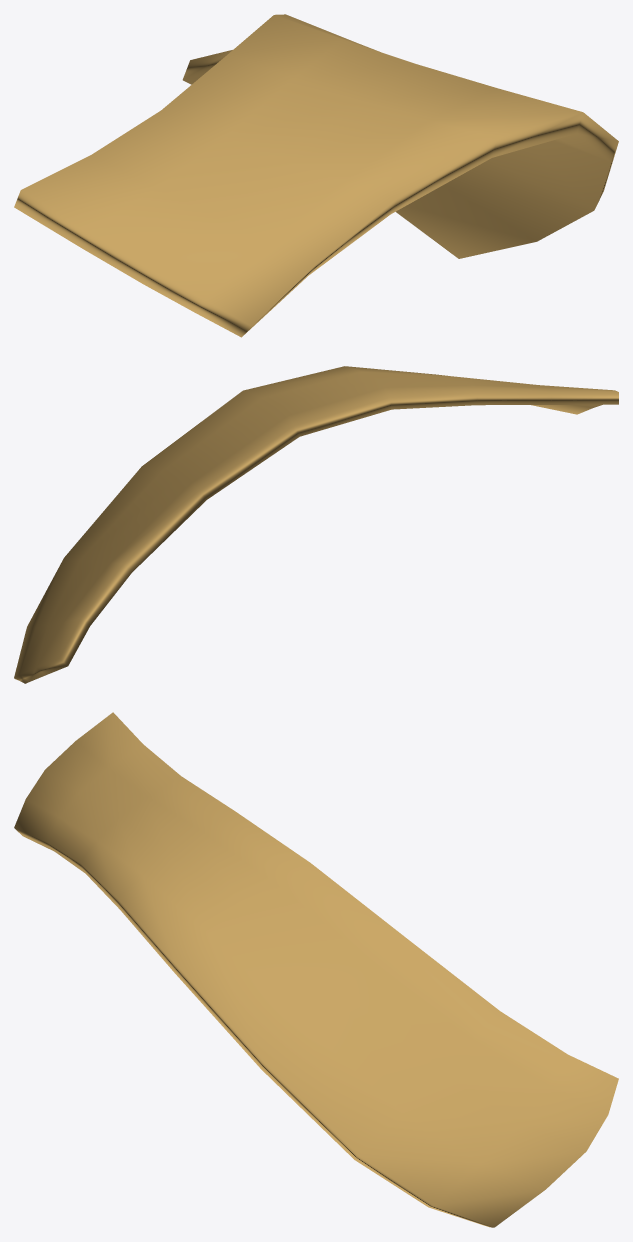
The picture shows the model from 3 angles, top to bottom: view 1: azimuth 30°, elevation 25°; view 2: azimuth 150°, elevation 25°; view 3: azimuth 270°, elevation 25°; orthographic projection. The views are drawn at different scales.
Visible parts, largest first — view 1: 右侧腓骨头后韧带; view 2: 右侧腓骨头后韧带; view 3: 右侧腓骨头后韧带.
Part boxes in pixels (left/top/right/bottom): 右侧腓骨头后韧带: left=14, top=14, right=618, bottom=337; 右侧腓骨头后韧带: left=14, top=366, right=618, bottom=683; 右侧腓骨头后韧带: left=14, top=712, right=618, bottom=1227.
Size of the model in its own units: 0.03 by 0.0172 by 0.0323.
